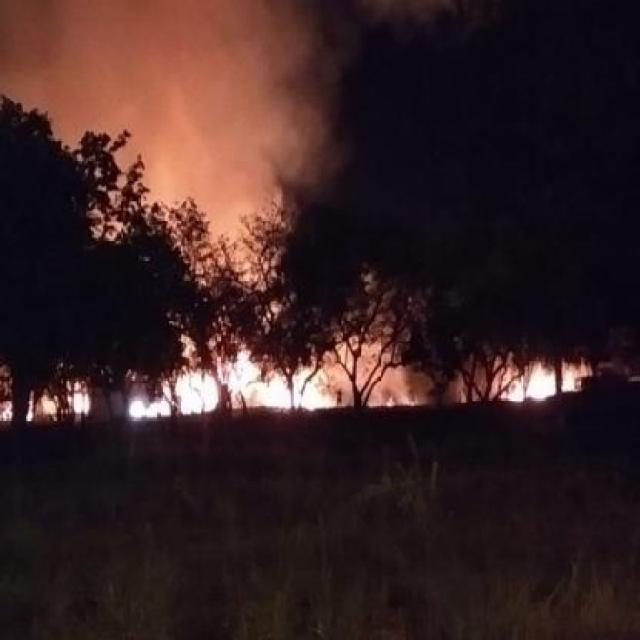Fire: (148, 349, 345, 415), (508, 360, 580, 400), (28, 394, 92, 418)
